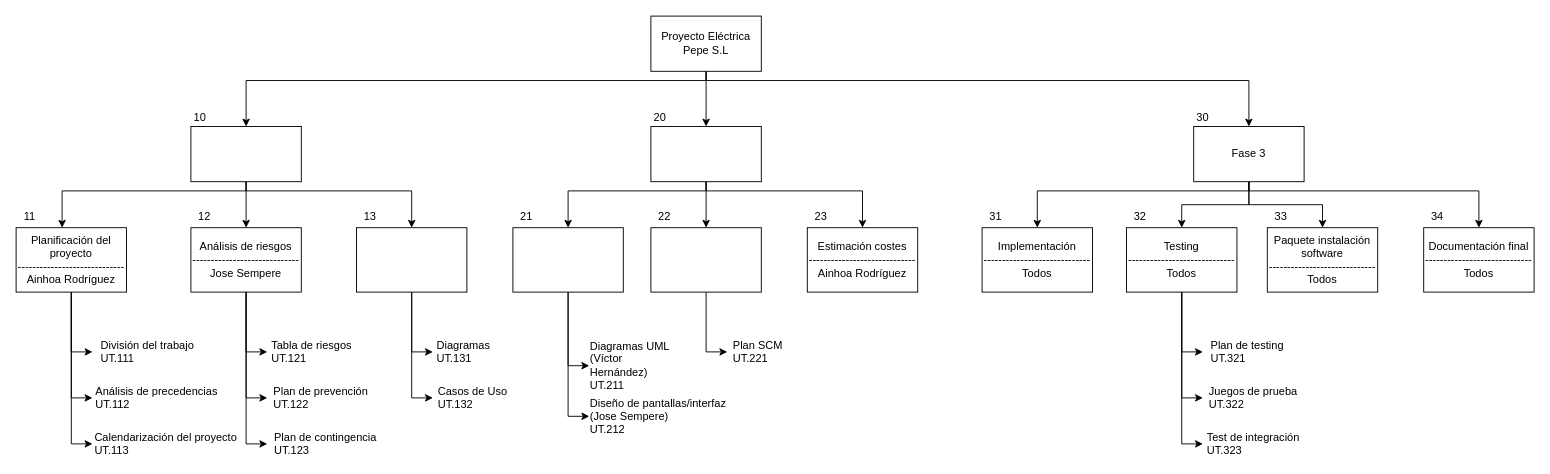
This 1550x474 diagram has some shape labels left out. The centre of each missing label's shape, as x and y in pixels:
"Análisis y diseño ----------------------------- Víctor Henández Jose Sempere" goes at (567,259).
"Análisis y diseño ----------------------------- Víctor Hernández" goes at (411,259).
"Fase 1" goes at (245,154).
"Fase 2" goes at (705,154).
"Gestión de Configuración ----------------------------- Todos" goes at (705,259).
